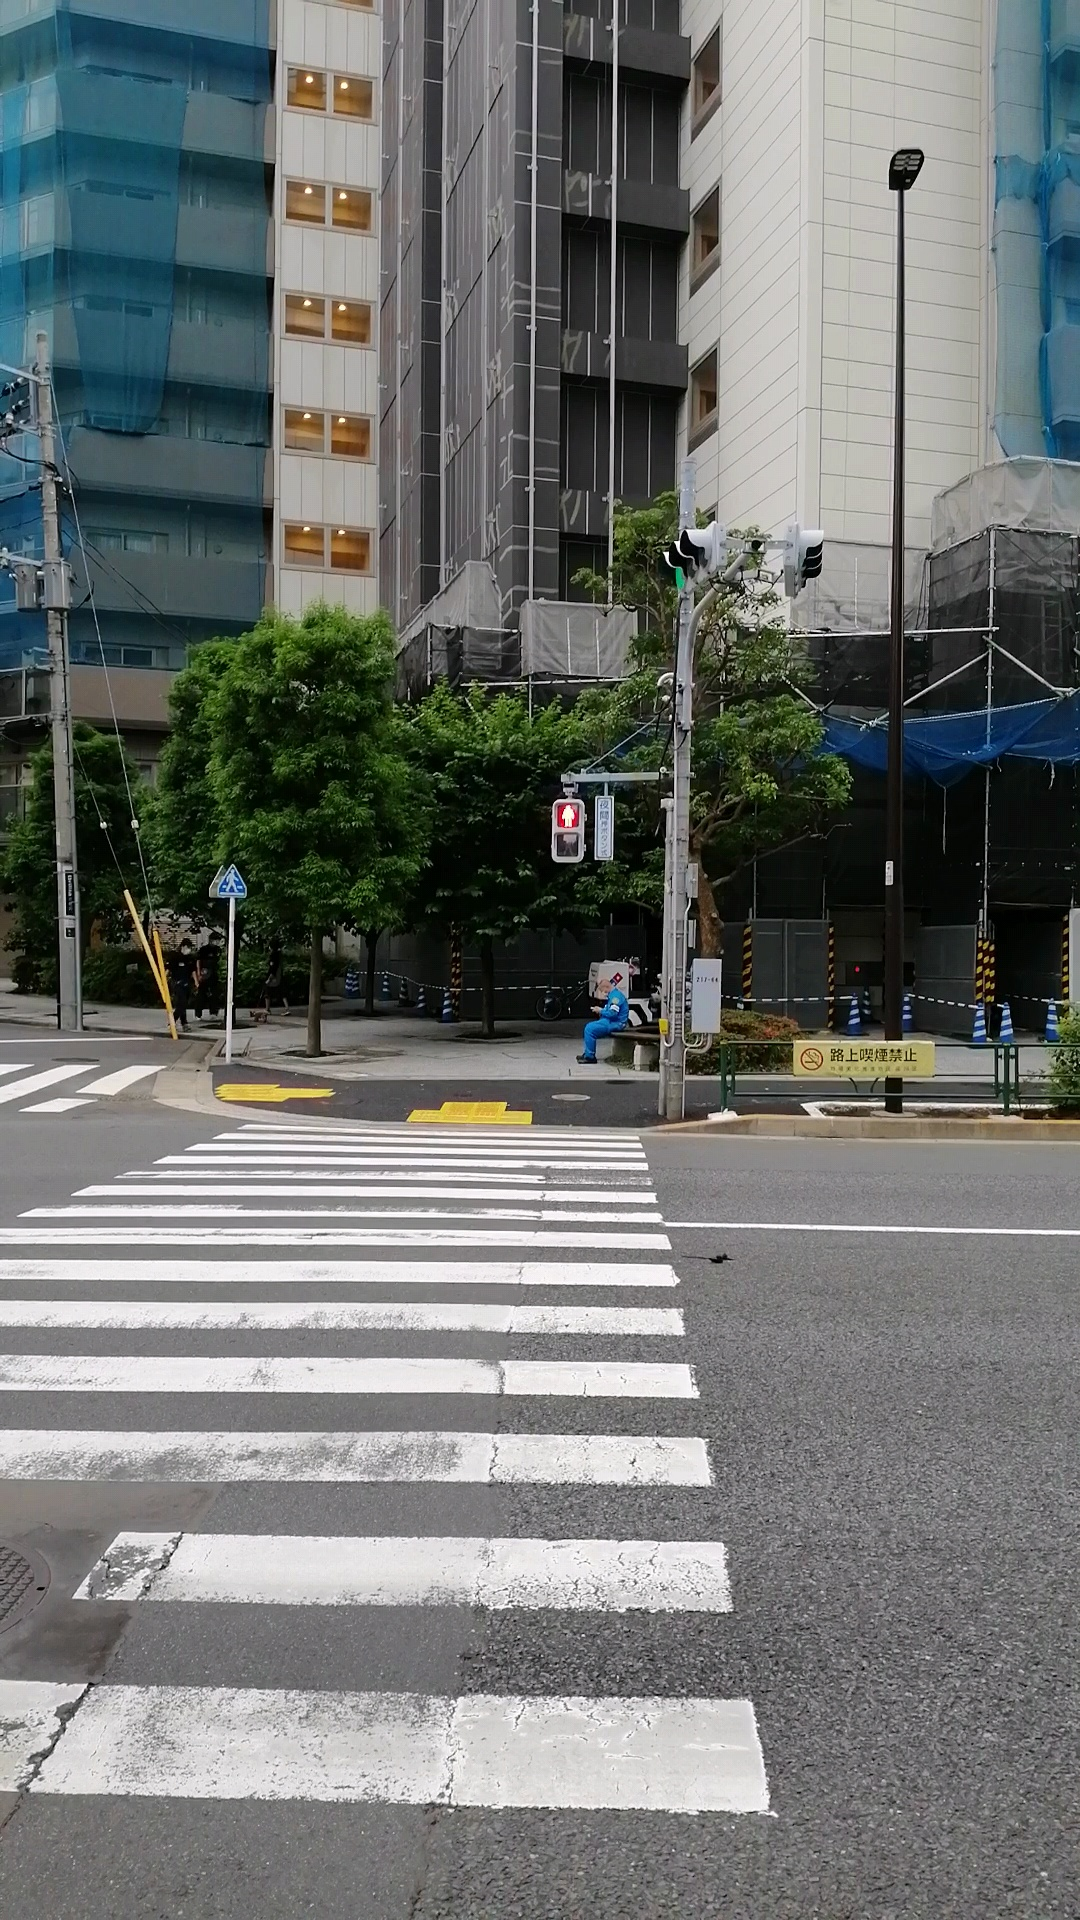red: (550, 796, 584, 862)
